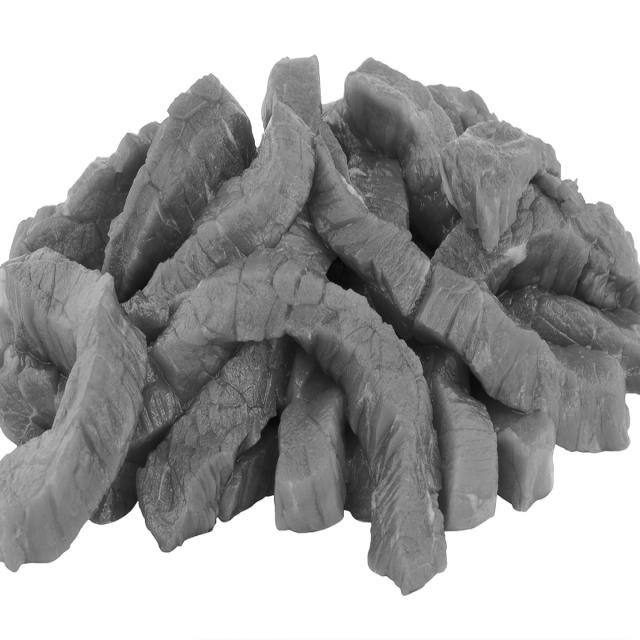thit mieng: (5, 50, 636, 596)
